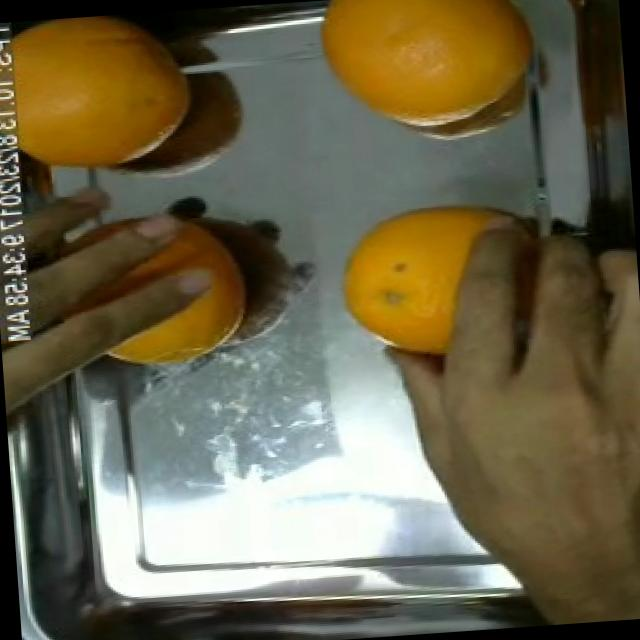Fruit: (0, 6, 226, 178)
